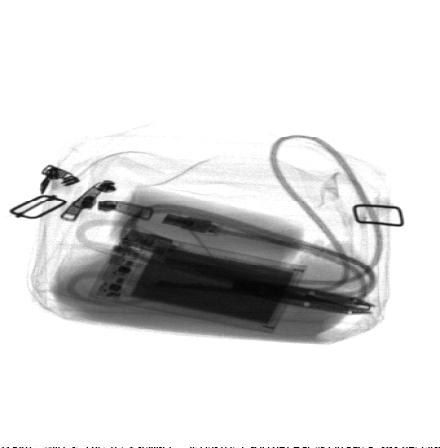Powerbank: (85, 227, 310, 335)
Scissors: (62, 219, 381, 315)
